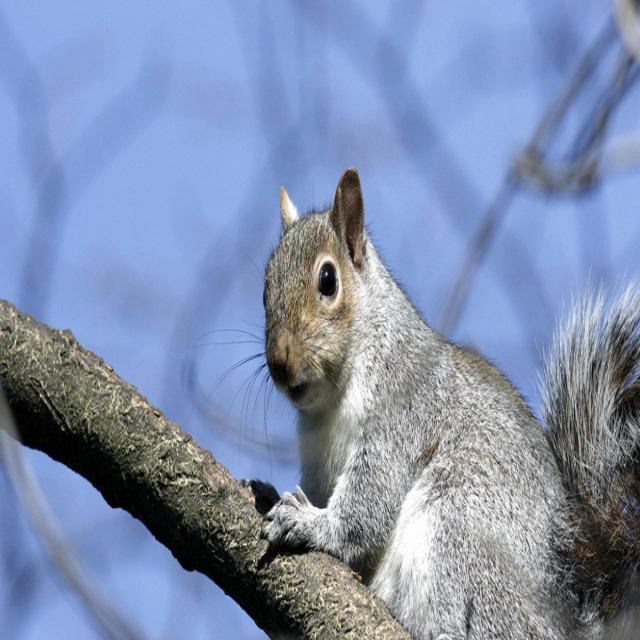squirrel: (264, 169, 640, 639)
